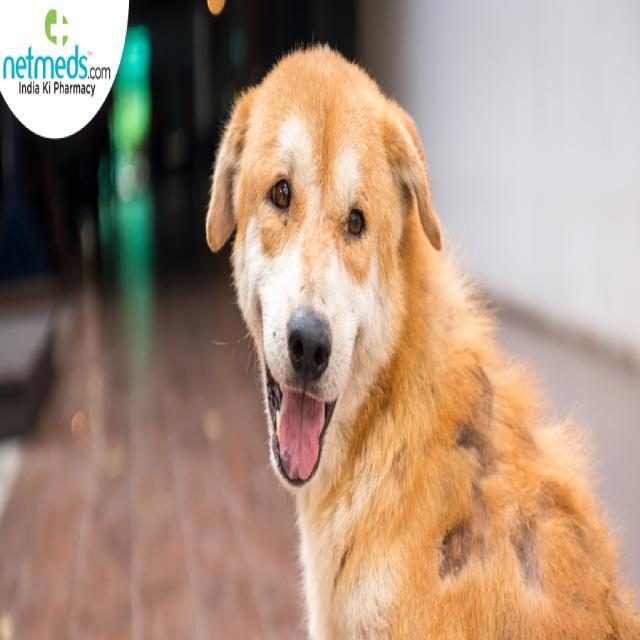mange: (386, 314, 628, 639)
